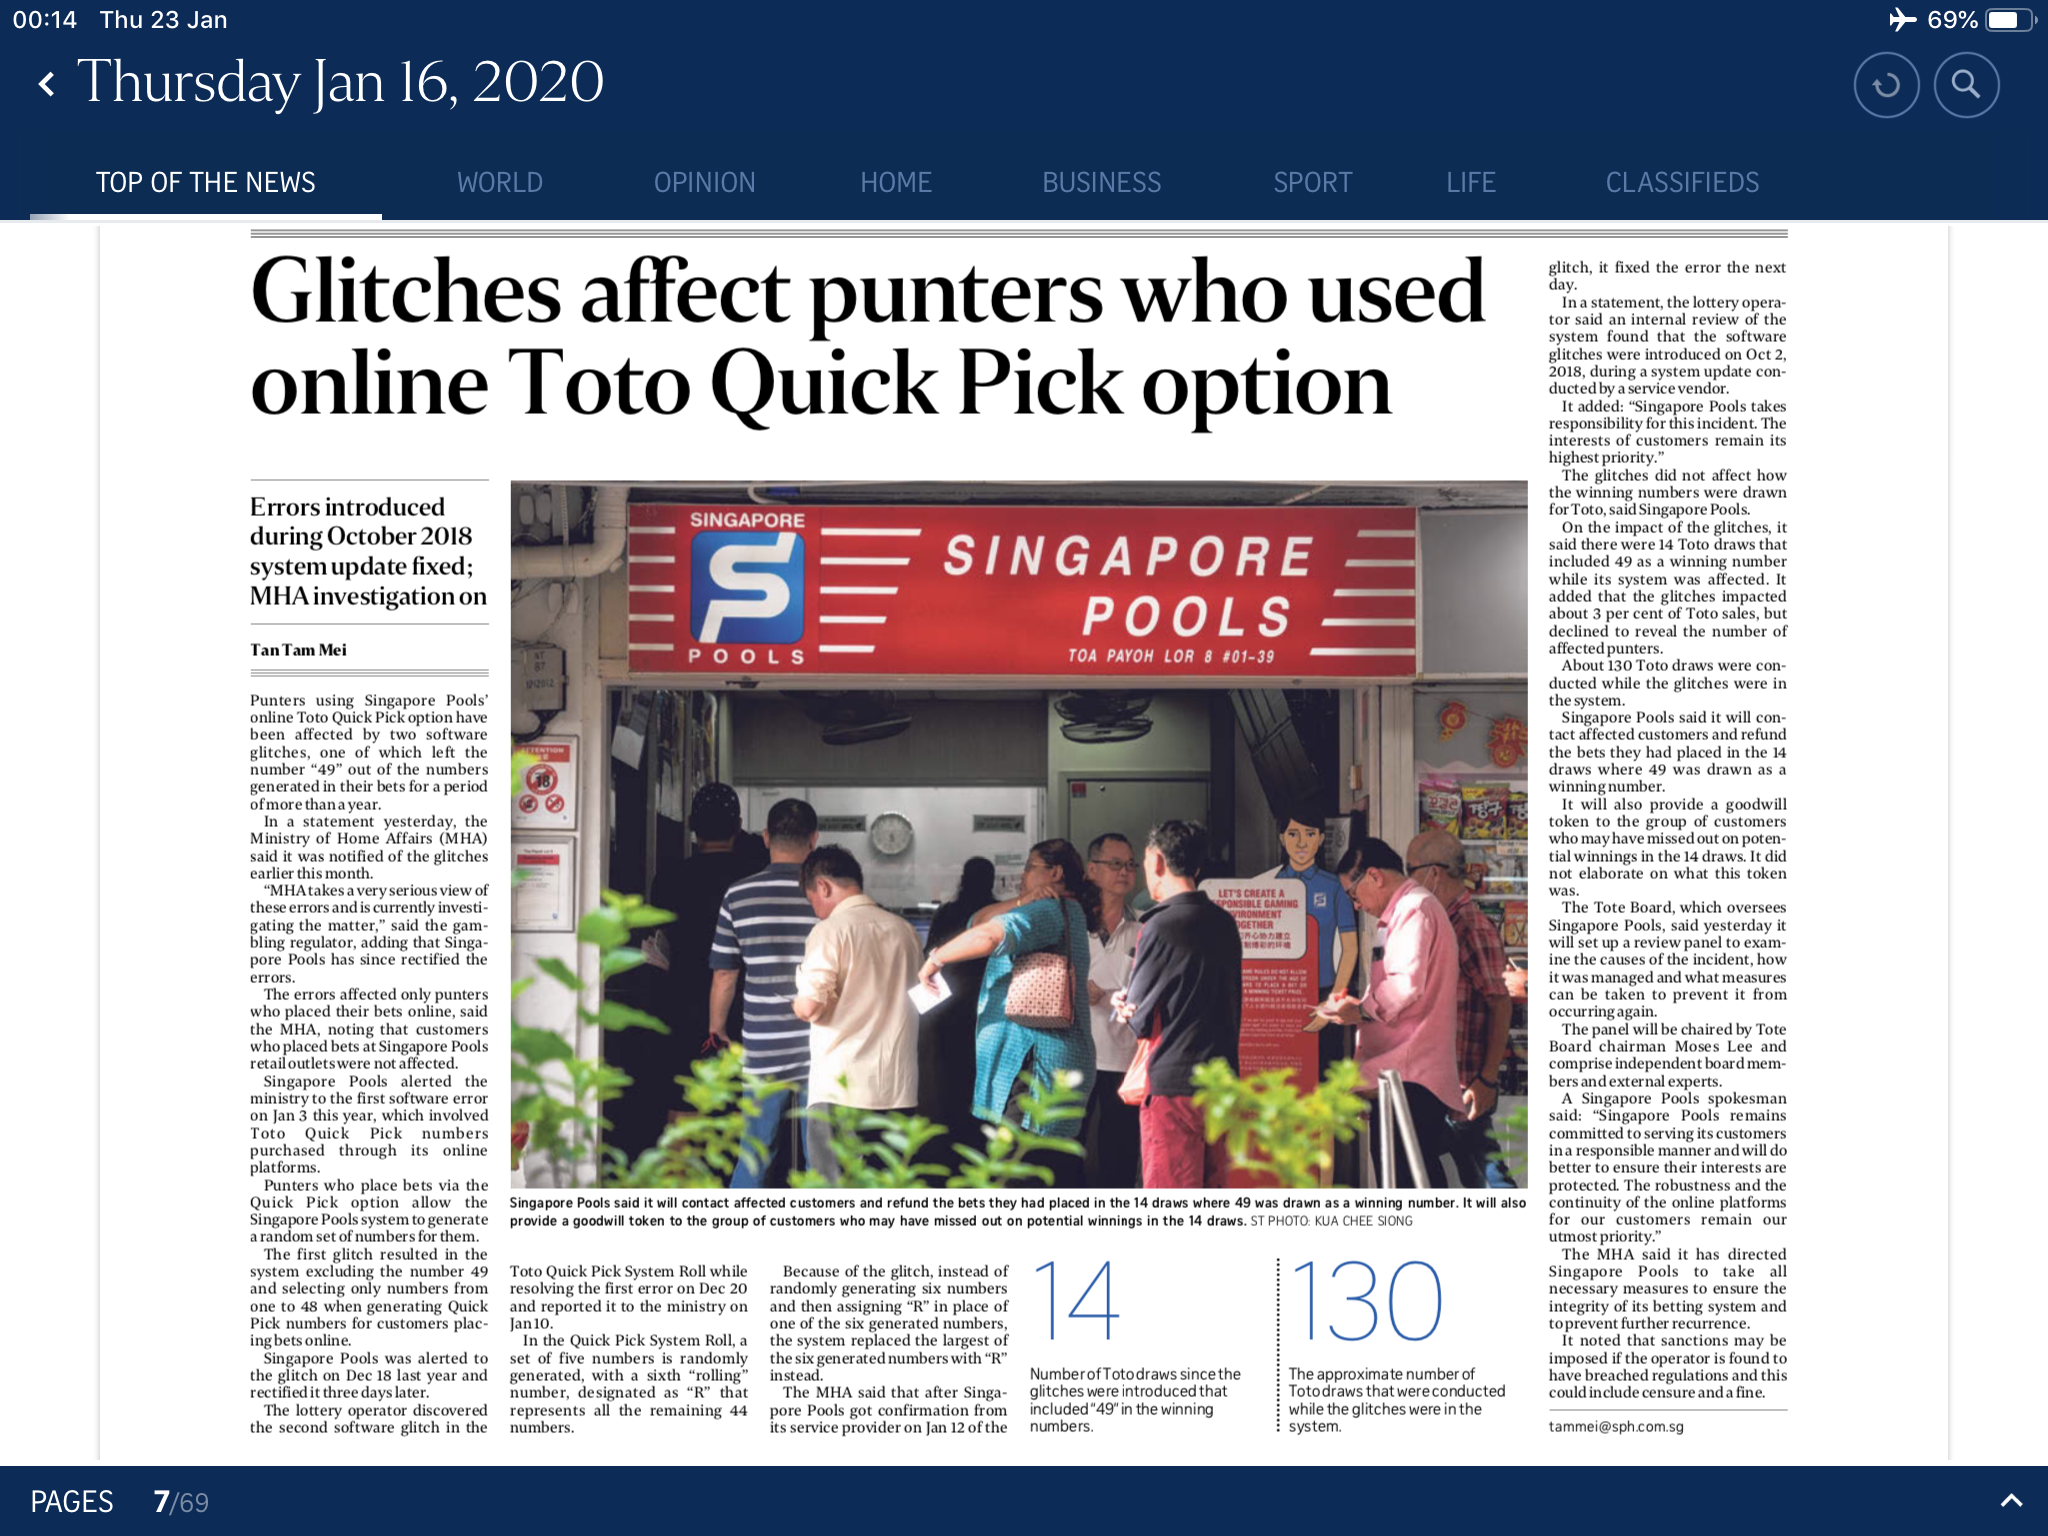Byline: (244, 626, 381, 666)
Headline: (224, 239, 1514, 442), (240, 479, 492, 626)
Image: (506, 478, 1534, 1192)
